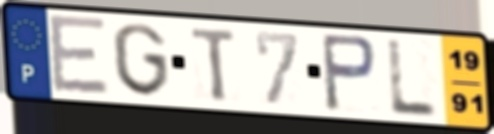7: (253, 28, 302, 107)
E: (46, 12, 112, 97)
G: (110, 21, 173, 99)
L: (385, 37, 441, 119)
P: (318, 31, 380, 115)
T: (189, 25, 240, 104)
